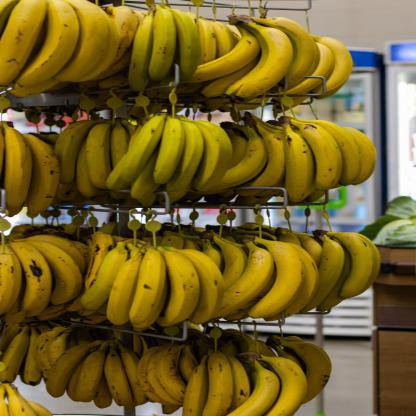banana: (90, 104, 257, 200)
